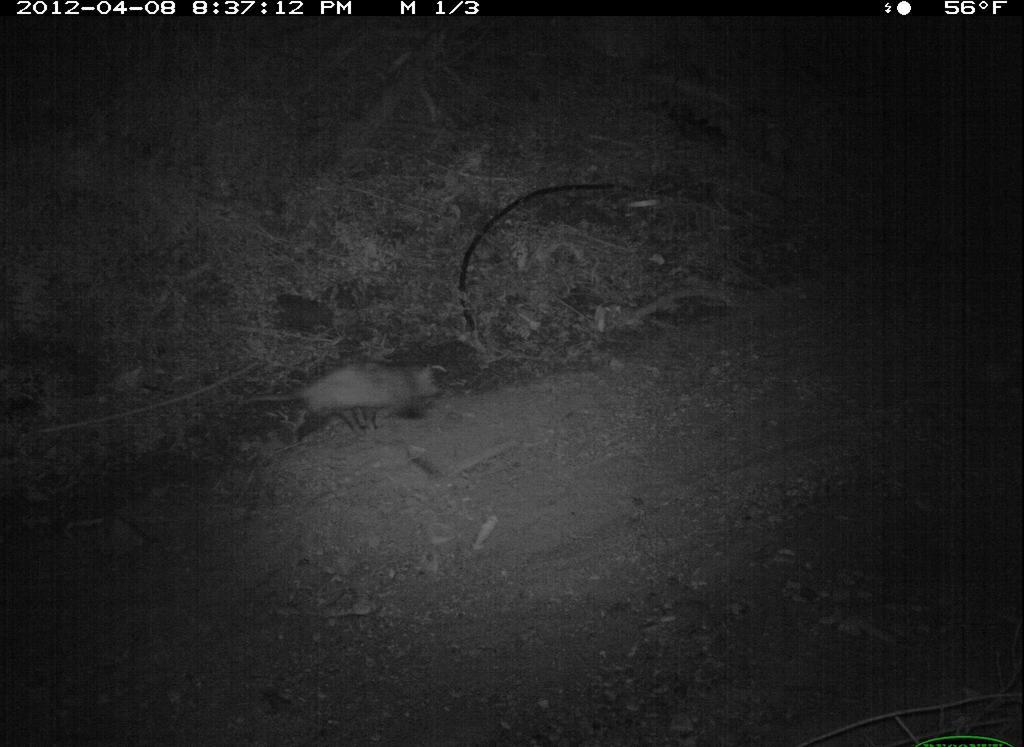opossum: (216, 349, 461, 446)
